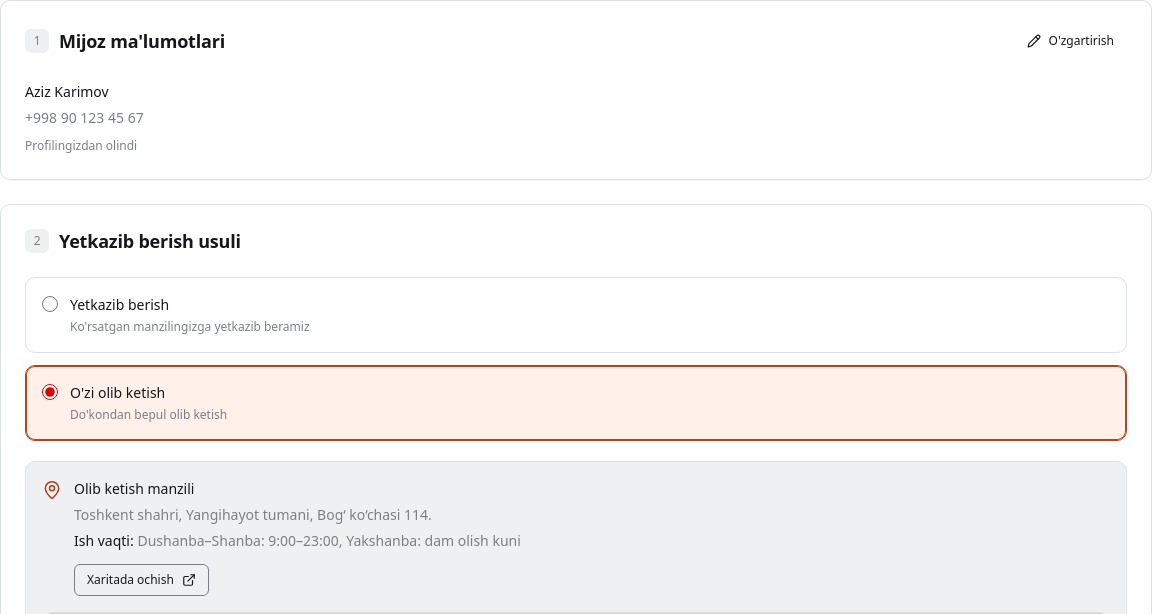
Test case: CheckoutDetailsForm › shows a saved profile as a summary with an edit affordance
The width and height of the screenshot is (1152, 614).
Check: the text "Aziz Karimov" is shown, box [25,82,109,101]
Check: the field labelled "Ism" is not shown
Click the button "O'zgartirish".
click(1070, 41)  # box [1014,25,1127,57]
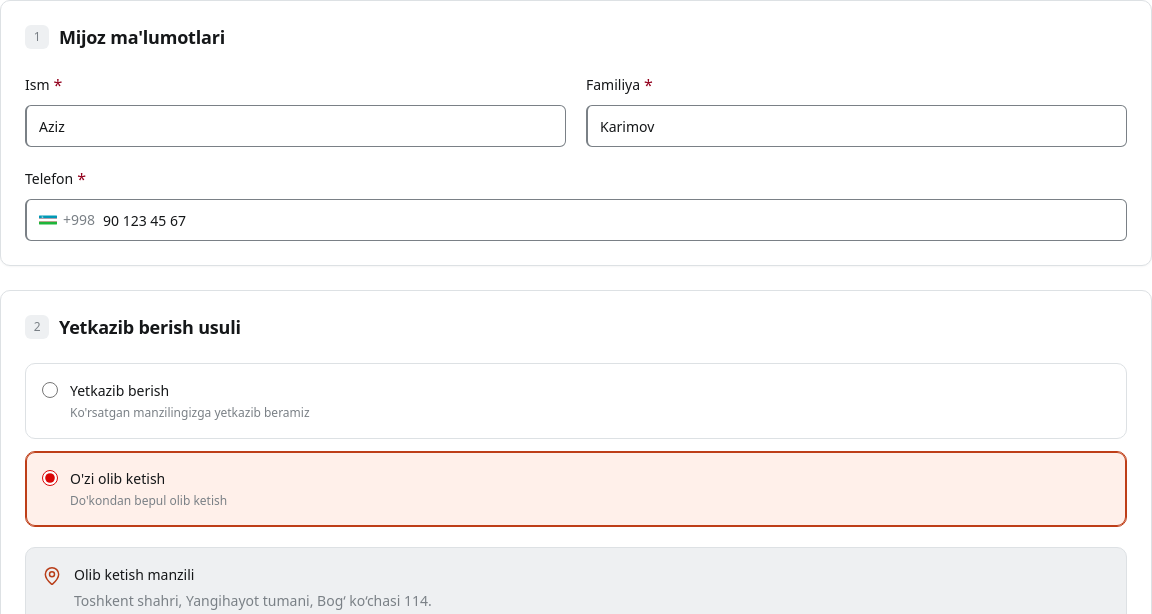
Check: the field labelled "Ism" holds "Aziz", box [39,106,553,146]
